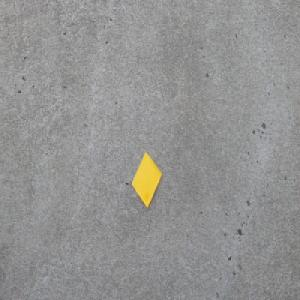PlasticPart: (130, 152, 161, 209)
